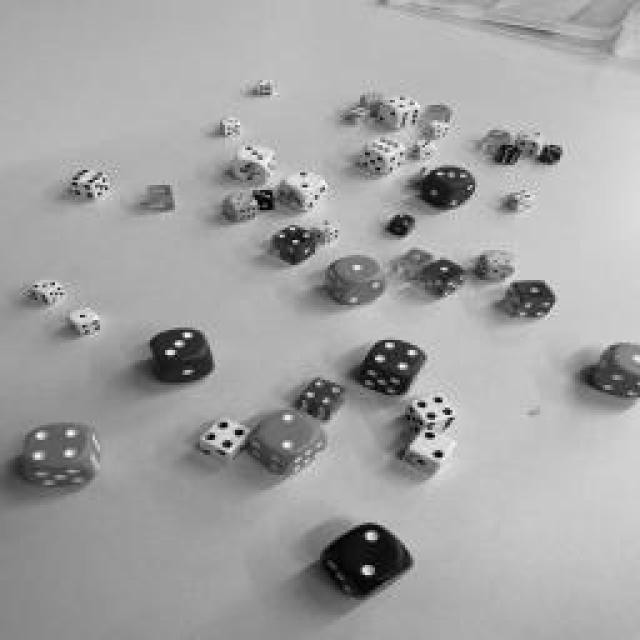dice_1: (340, 258, 378, 280), (612, 345, 640, 373), (426, 261, 464, 279), (518, 282, 552, 298), (70, 308, 95, 322)
dice_2: (327, 528, 405, 592), (259, 410, 316, 452), (412, 430, 452, 460), (288, 172, 322, 192), (316, 222, 336, 232), (392, 215, 412, 225), (520, 131, 540, 141), (432, 120, 446, 128), (258, 80, 272, 85)
dice_3: (158, 331, 202, 359), (432, 168, 472, 182), (239, 146, 269, 162), (228, 194, 254, 206), (32, 280, 58, 290), (148, 186, 172, 196), (252, 190, 272, 200), (490, 130, 510, 140), (430, 105, 450, 113), (418, 140, 432, 150), (502, 145, 518, 153), (221, 118, 239, 124), (365, 95, 385, 100)
dice_4: (26, 425, 86, 465), (371, 340, 424, 375), (202, 419, 248, 451), (302, 379, 342, 406), (415, 395, 455, 420), (275, 226, 315, 246), (388, 95, 418, 110), (488, 250, 512, 265)
dice_5: (404, 251, 431, 264), (545, 145, 560, 153)
dice_6: (70, 170, 105, 185), (369, 138, 401, 154), (512, 190, 532, 200), (349, 106, 369, 114), (420, 167, 435, 175)
